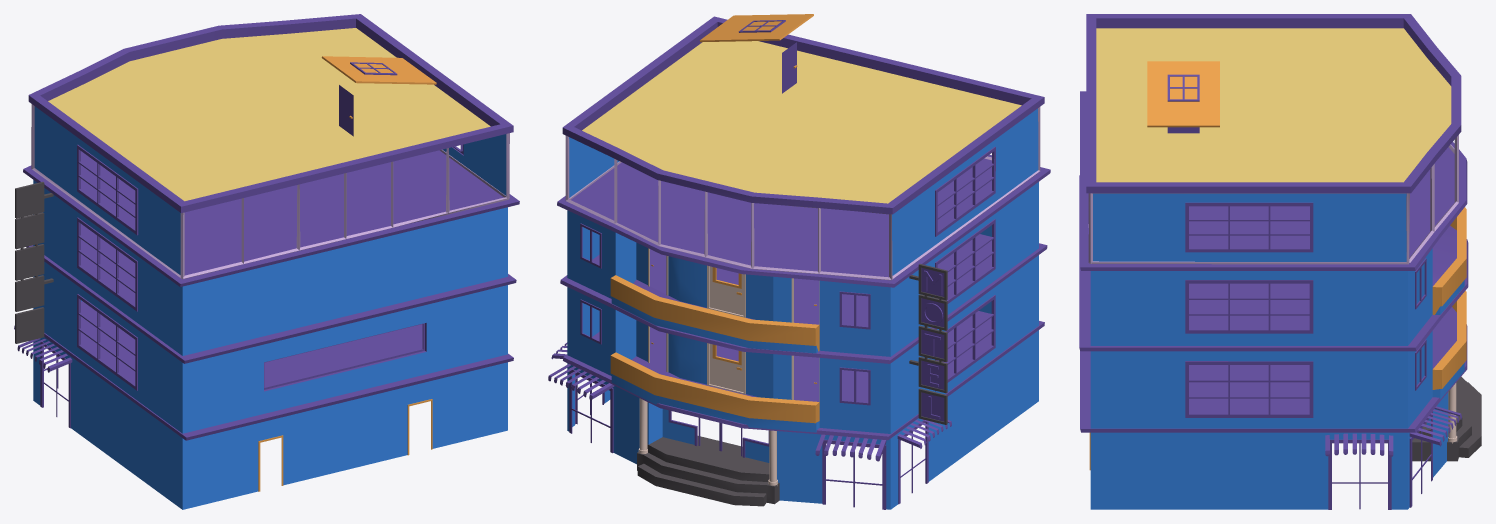
Rendered from Big Red Hotel.fbx.
3 views of the same model, side by side, from view 1: azimuth 30°, elevation 25°; view 2: azimuth 150°, elevation 25°; view 3: azimuth 270°, elevation 25° (orthographic). The views are drawn at different scales.
Visible parts, largest first — view 1: Big Red Hotel; view 2: Big Red Hotel; view 3: Big Red Hotel.
Part boxes in pixels (bbox=[...]): Big Red Hotel: bbox=[14, 14, 519, 509]; Big Red Hotel: bbox=[548, 14, 1050, 509]; Big Red Hotel: bbox=[1079, 14, 1481, 509].
Bounding box in the file's own units: 1387 × 1239 × 1179.
